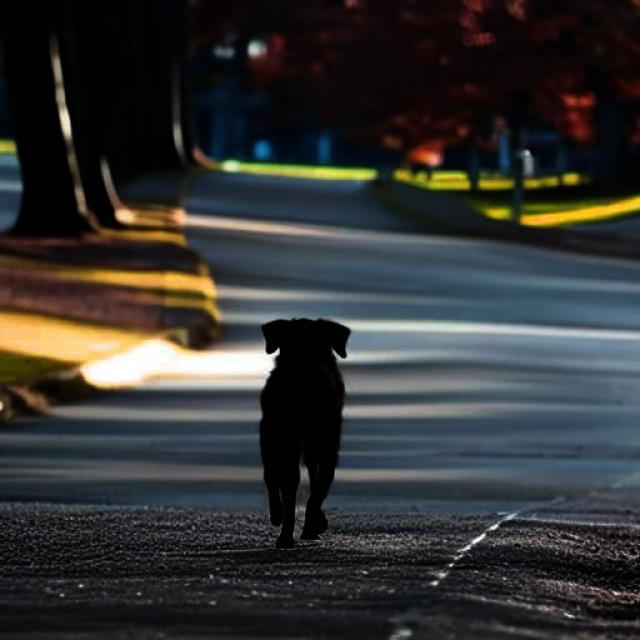Dog: (258, 318, 351, 549)
